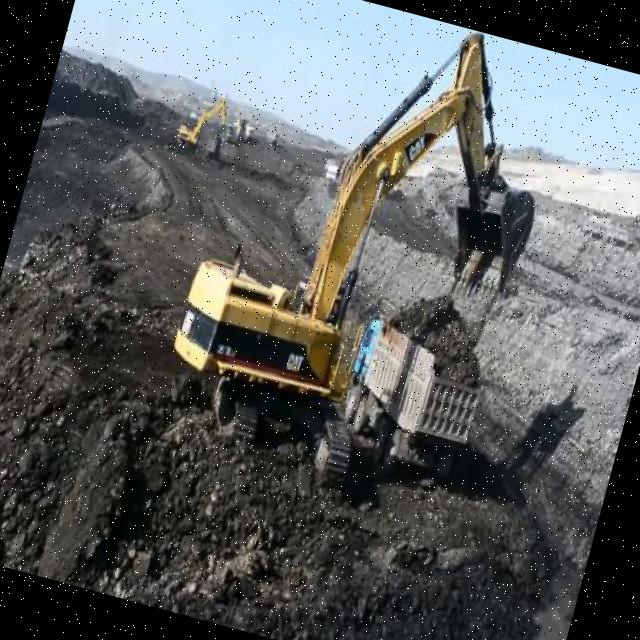Dump Truck: (323, 304, 495, 490), (202, 130, 224, 165)
Excavator: (145, 0, 580, 516), (173, 90, 229, 160)
